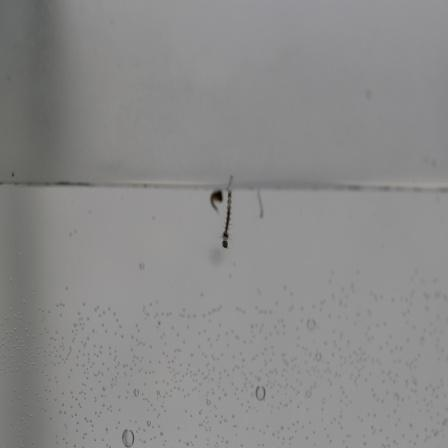Jentik-Nyamuk: (207, 187, 237, 252)
